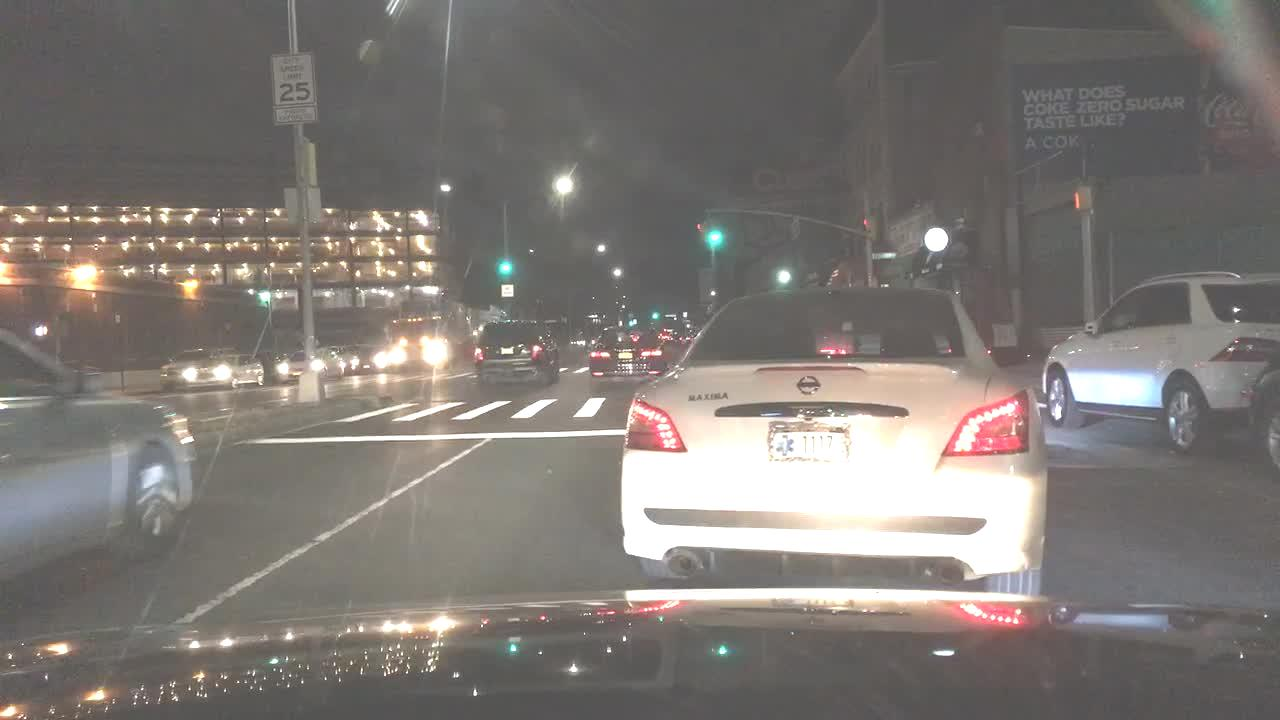Nissan: (793, 374, 824, 395)
